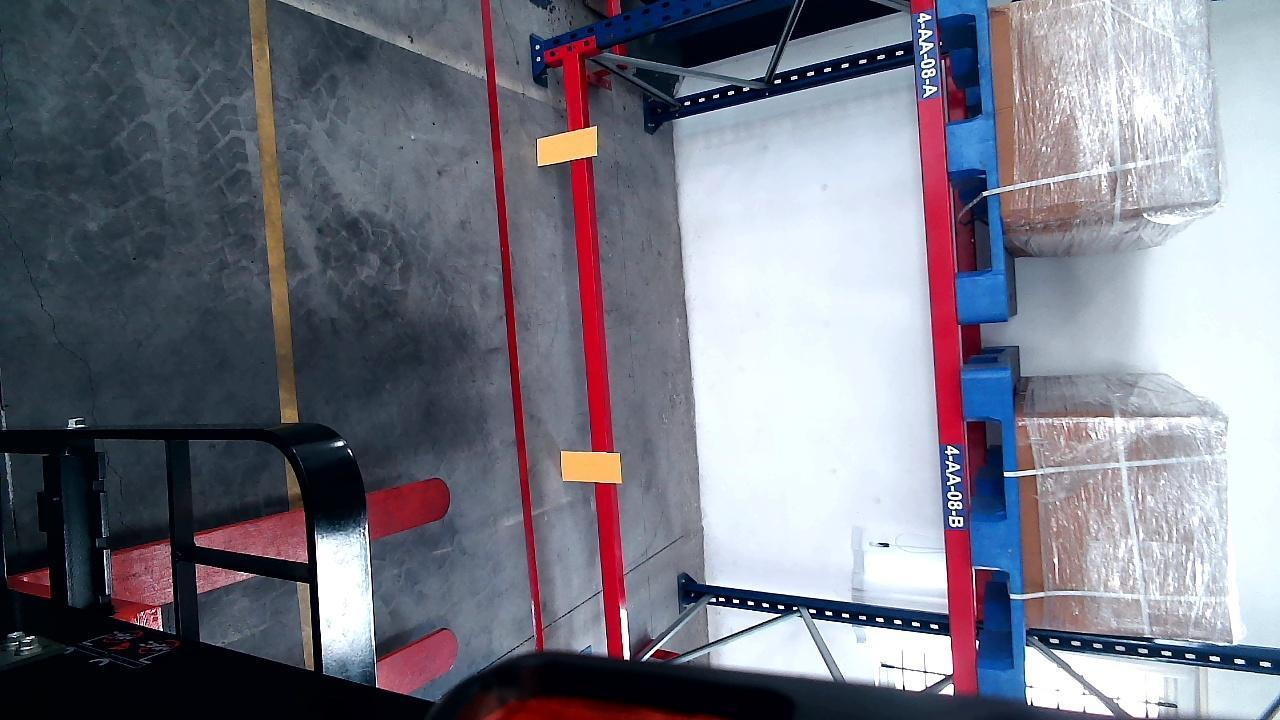h_rack: (913, 0, 975, 702), (564, 44, 627, 655)
orange_strip: (537, 126, 597, 165), (561, 450, 621, 483)
red_line: (480, 0, 546, 656)
small_pallet: (939, 0, 1006, 319), (963, 364, 1027, 687)
yellow_line: (254, 0, 298, 428)
